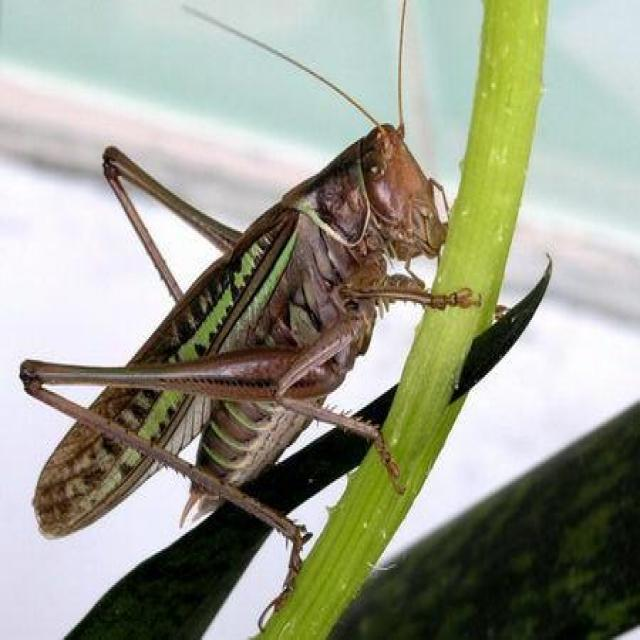ZhaMeng: (16, 104, 442, 566)
